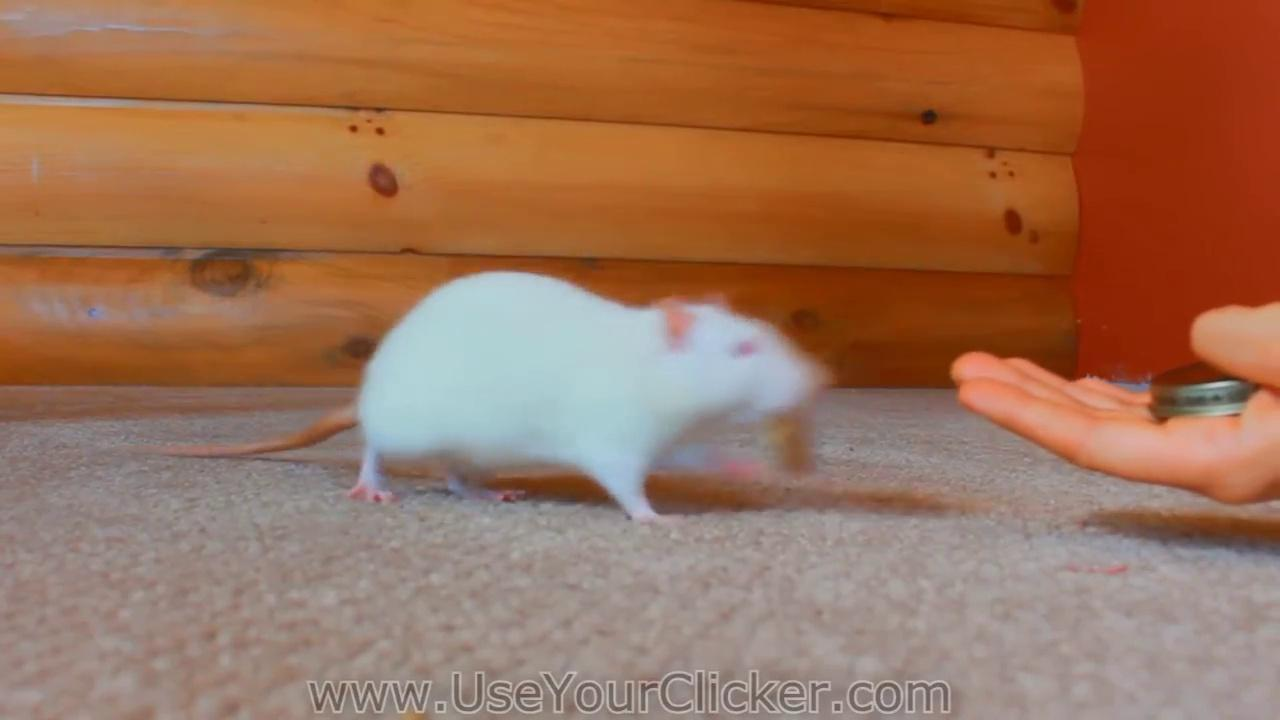rat: (124, 271, 839, 523)
